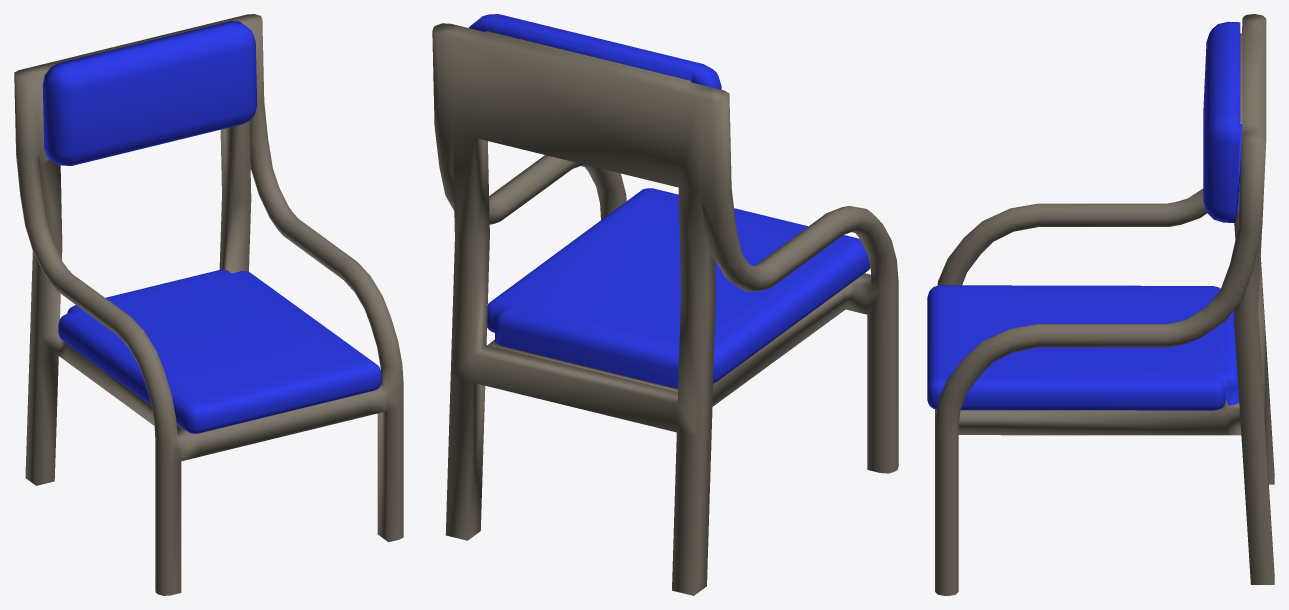
Rendered from ChairV3.fbx.
3 views of the same model, side by side, from view 1: azimuth 30°, elevation 25°; view 2: azimuth 150°, elevation 25°; view 3: azimuth 270°, elevation 25° (orthographic). The views are drawn at different scales.
Visible parts, largest first — view 1: Cube; view 2: Cube; view 3: Cube.
Boxes of the visible parts, bbox=[...] form: Cube: bbox=[14, 14, 403, 595]; Cube: bbox=[432, 14, 898, 595]; Cube: bbox=[927, 14, 1274, 595].
Bounding box in the file's own units: 69.68 × 115 × 78.48.
